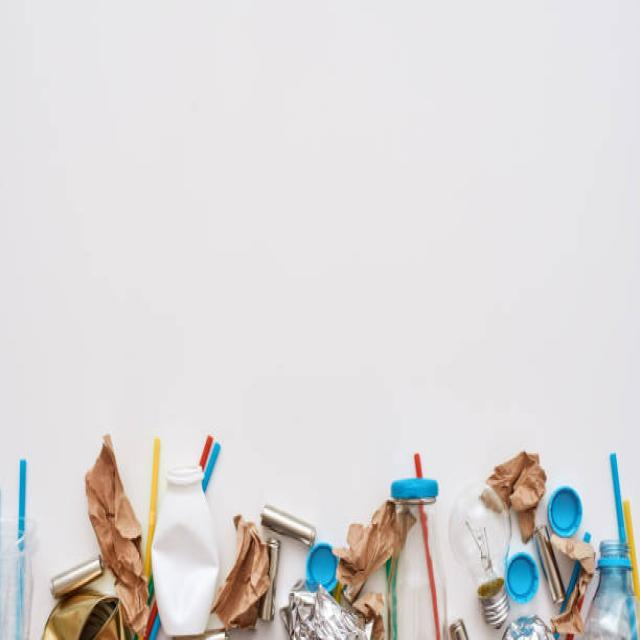glass: (384, 481, 454, 640)
plastic: (154, 461, 229, 637), (584, 538, 638, 640)
